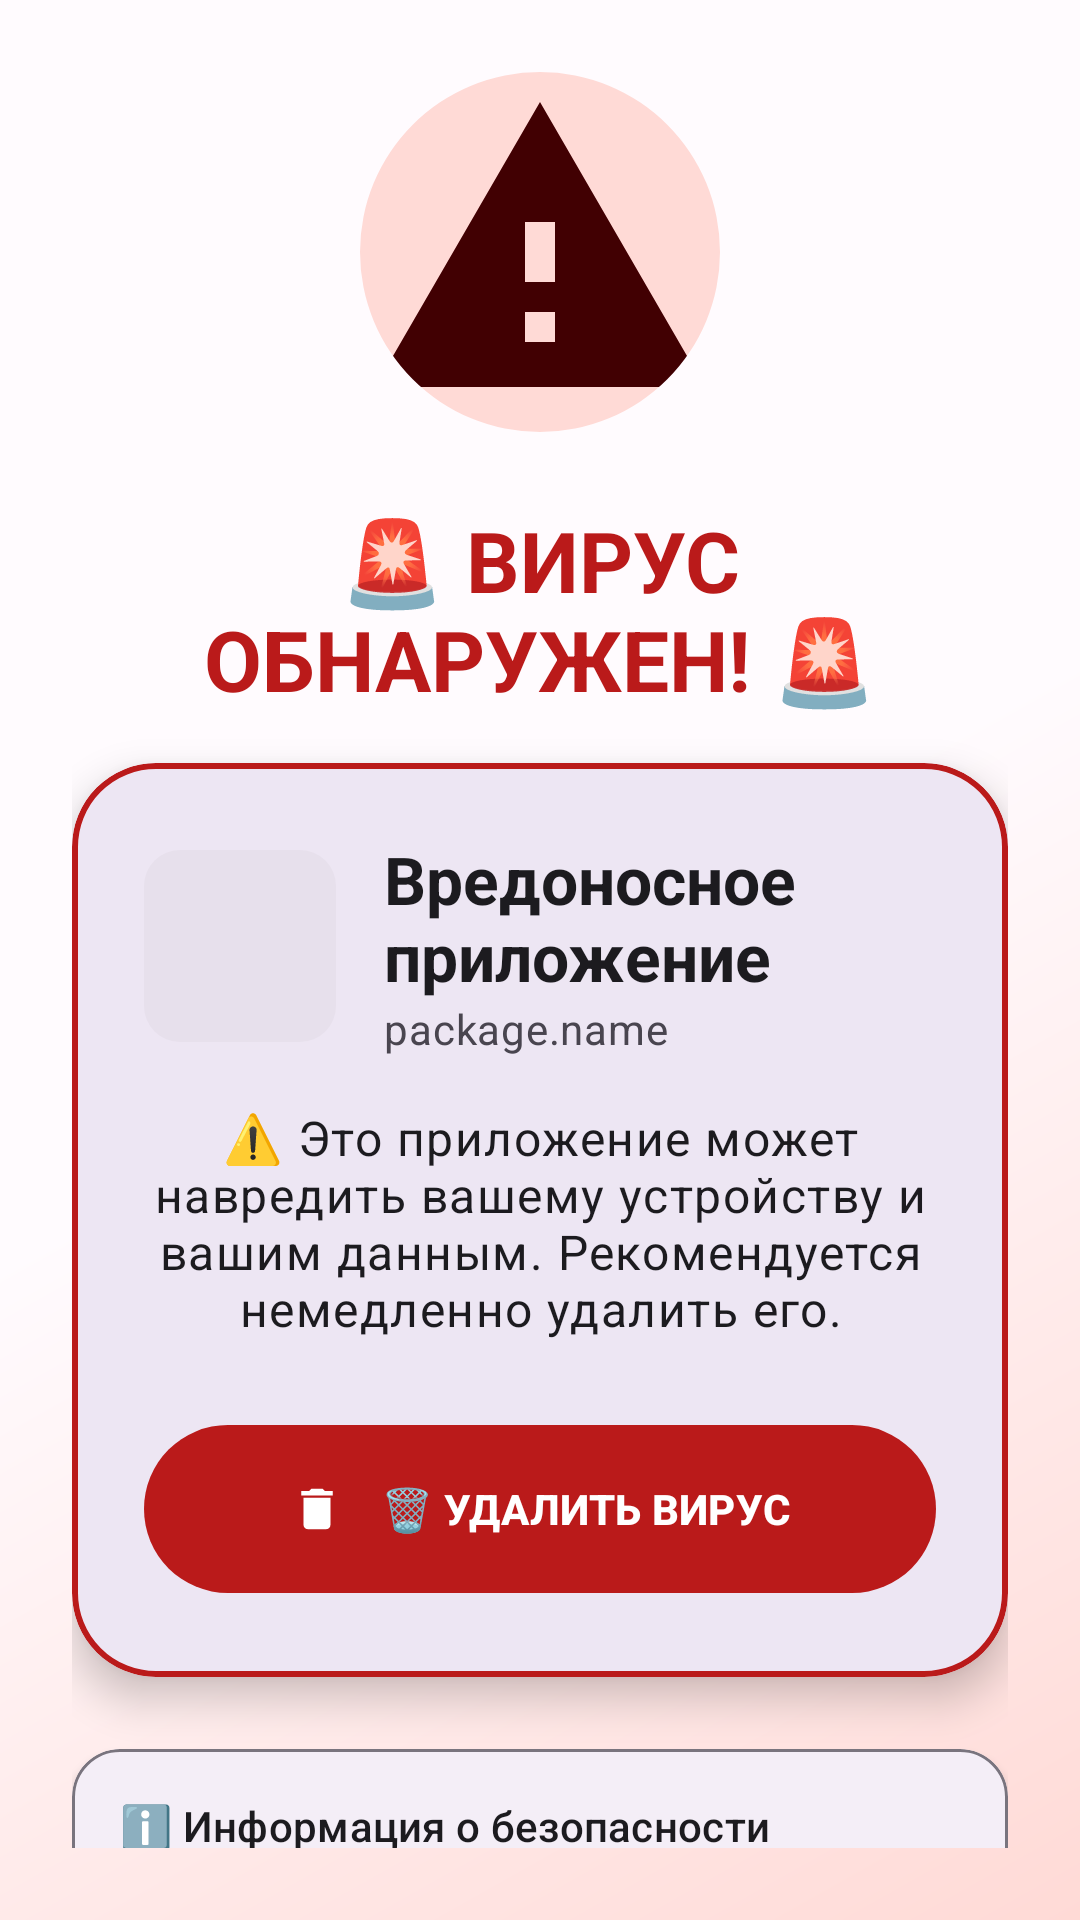

Icon click points for this 1080x1920 phone screenshot, format (x,y):
warning: (540,252)
